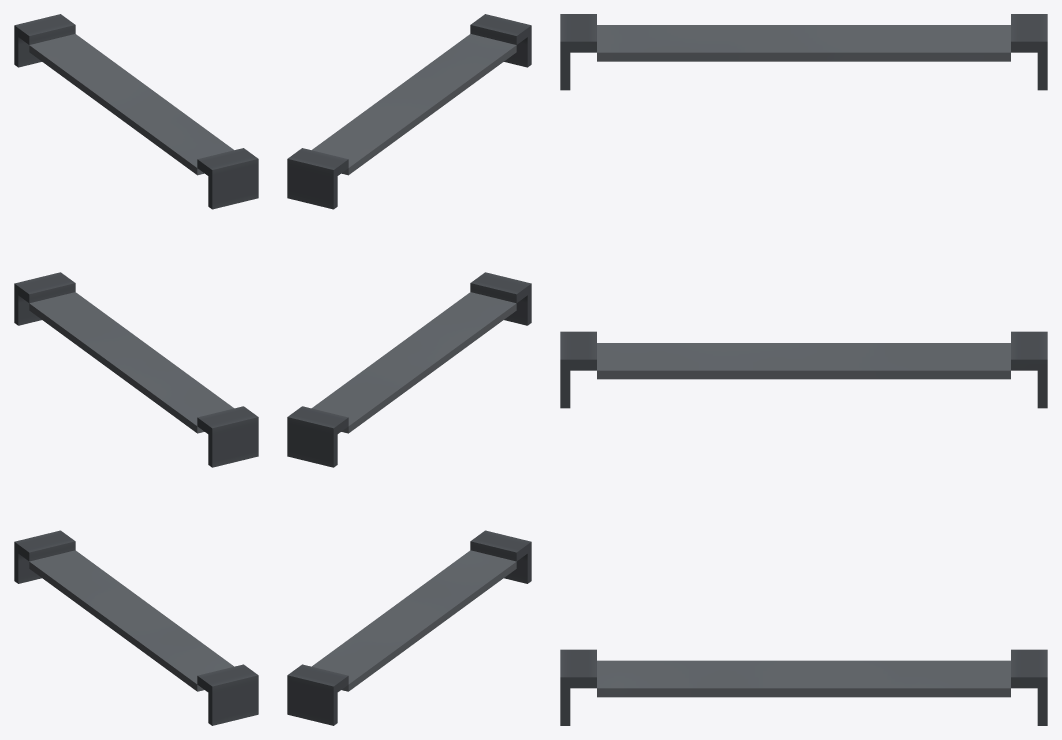
Rendered from joint_left_lower.obj.
The picture shows the model from 3 angles, left to right: view 1: azimuth 30°, elevation 25°; view 2: azimuth 150°, elevation 25°; view 3: azimuth 270°, elevation 25°; orthographic projection. The views are drawn at different scales.
Visible parts, largest first — view 1: joint_left_lower__joint_left_lower_deck, joint_left_lower__joint_left_lower_beams; view 2: joint_left_lower__joint_left_lower_deck, joint_left_lower__joint_left_lower_beams; view 3: joint_left_lower__joint_left_lower_deck, joint_left_lower__joint_left_lower_beams.
Part boxes in pixels (x1=…): joint_left_lower__joint_left_lower_deck: x1=29, y1=34, x2=234, y2=691; joint_left_lower__joint_left_lower_beams: x1=14, y1=14, x2=258, y2=725; joint_left_lower__joint_left_lower_deck: x1=311, y1=34, x2=516, y2=691; joint_left_lower__joint_left_lower_beams: x1=287, y1=14, x2=531, y2=725; joint_left_lower__joint_left_lower_deck: x1=597, y1=25, x2=1010, y2=697; joint_left_lower__joint_left_lower_beams: x1=560, y1=14, x2=1047, y2=725.
Size of the model in its own units: 0.0844 by 0.9688 by 0.625.
